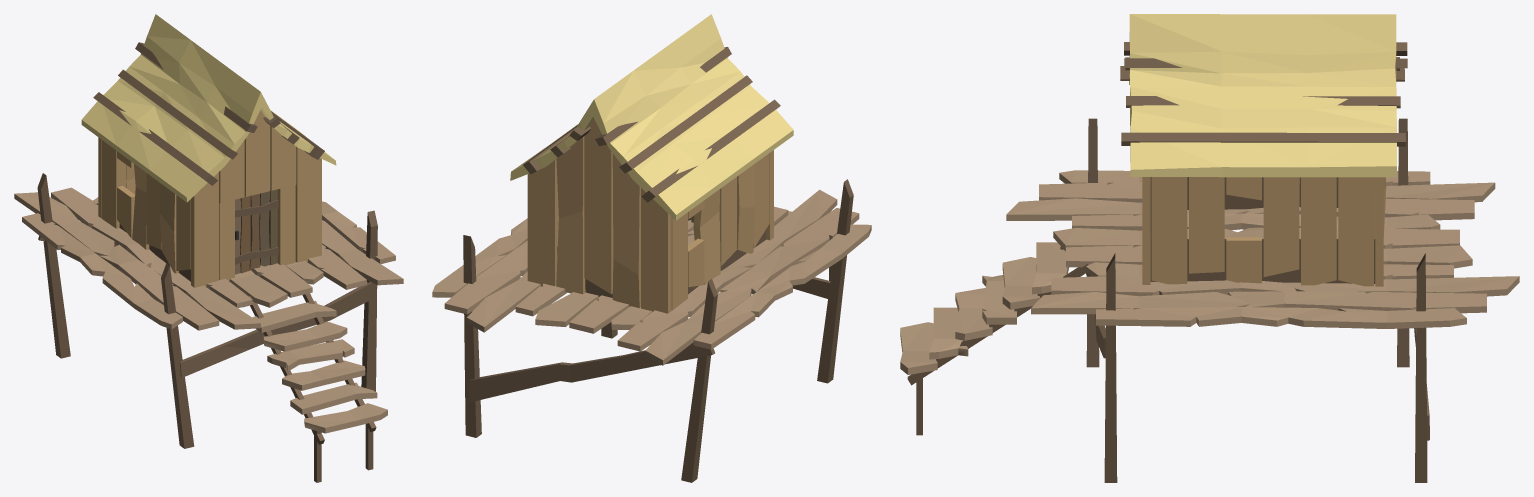
The model's file is Hut_1.fbx.
3 views of the same model, side by side, from view 1: azimuth 30°, elevation 25°; view 2: azimuth 150°, elevation 25°; view 3: azimuth 270°, elevation 25° (orthographic). The views are drawn at different scales.
Parts seen in each view (by area): view 1: Hut_1, Platform_2, Stairs_2; view 2: Hut_1, Platform_2; view 3: Hut_1, Platform_2, Stairs_2.
Part boxes in pixels (x1,y1,x2,y2): Hut_1: [81, 14, 336, 287]; Platform_2: [14, 173, 403, 448]; Stairs_2: [249, 293, 387, 482]; Hut_1: [510, 14, 793, 313]; Platform_2: [432, 179, 871, 482]; Hut_1: [1120, 14, 1407, 286]; Platform_2: [1006, 118, 1519, 482]; Stairs_2: [900, 242, 1087, 435].
Bounding box in the file's own units: 424 × 526 × 731.
1 material, 1 textured.
